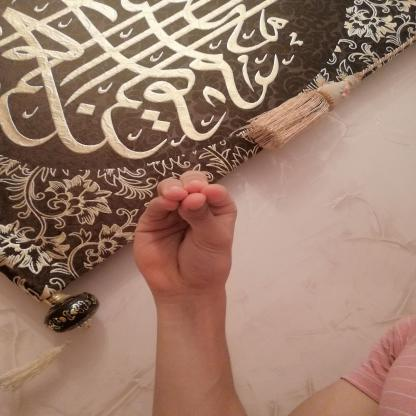HA: (116, 162, 257, 308)
